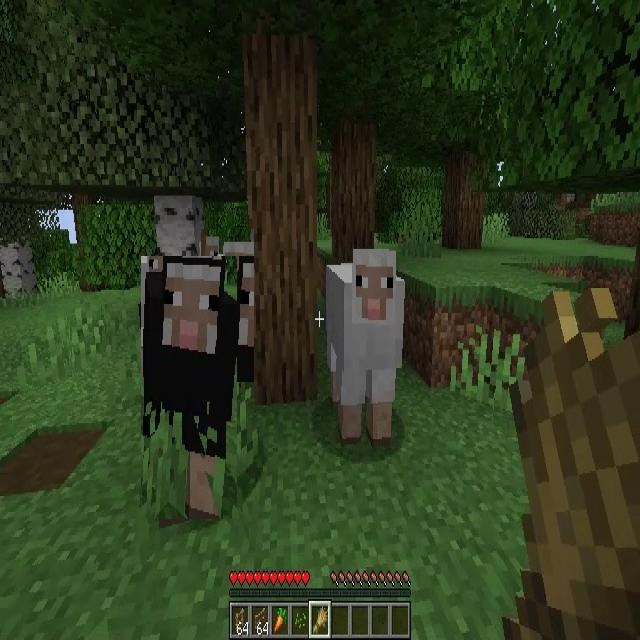sheep: (142, 256, 238, 519), (326, 249, 406, 436), (201, 229, 254, 382)
